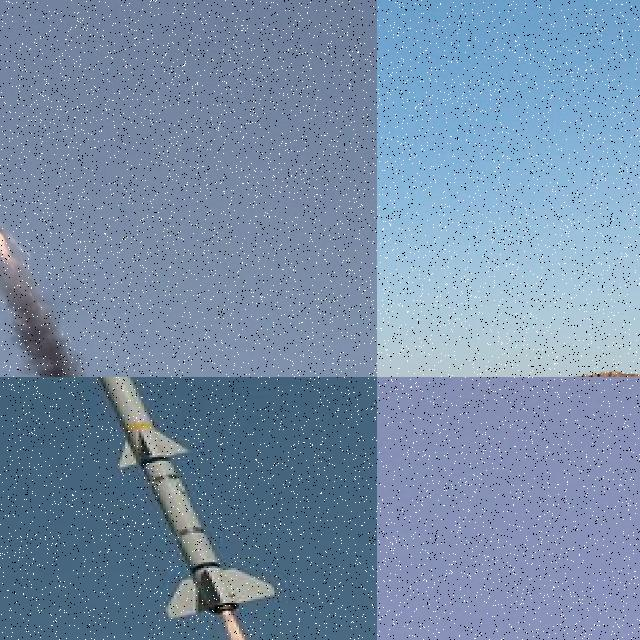Rocket: (56, 377, 281, 623)
